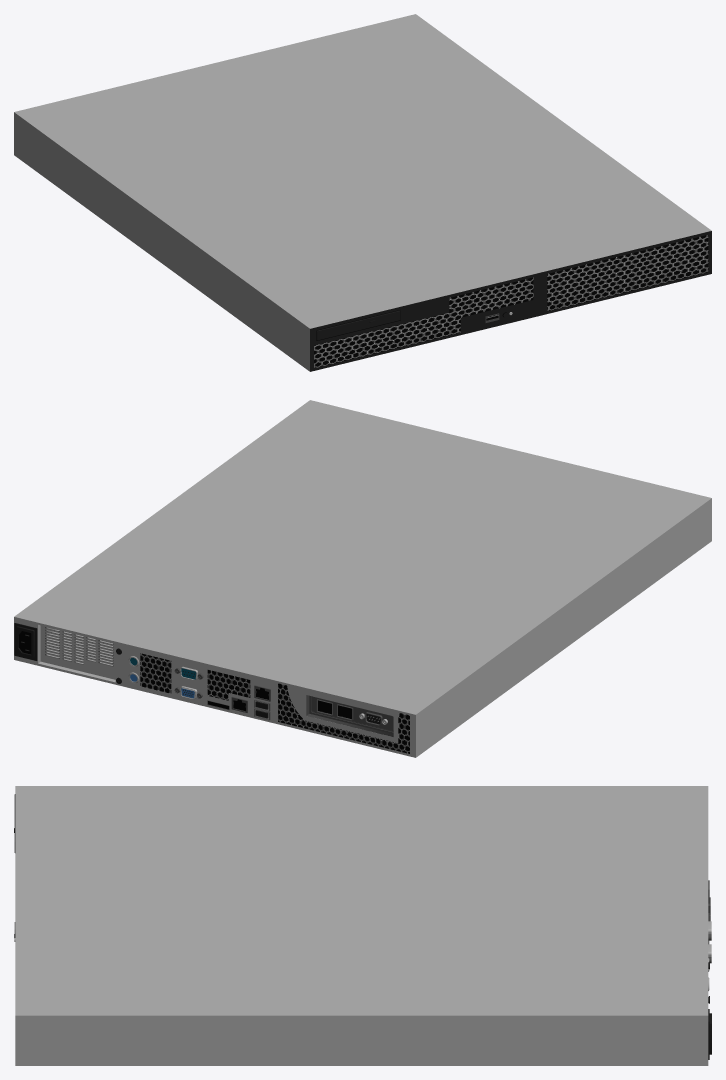
The model's file is DELL EMC_VNX Control Station.fbx.
3 renders of one model, top to bottom at view 1: azimuth 30°, elevation 25°; view 2: azimuth 150°, elevation 25°; view 3: azimuth 270°, elevation 25°, orthographic. The views are drawn at different scales.
Visible parts, largest first — view 1: DELL EMC_VNX Control Station; view 2: DELL EMC_VNX Control Station; view 3: DELL EMC_VNX Control Station.
Part boxes in pixels (box(x1,y1,x2,y2)): DELL EMC_VNX Control Station: box(14, 14, 711, 371); DELL EMC_VNX Control Station: box(14, 400, 711, 757); DELL EMC_VNX Control Station: box(14, 786, 711, 1065).
Size of the model in its own units: 434 by 558 by 44.5.
Materials: 7 (1 with a texture image).
